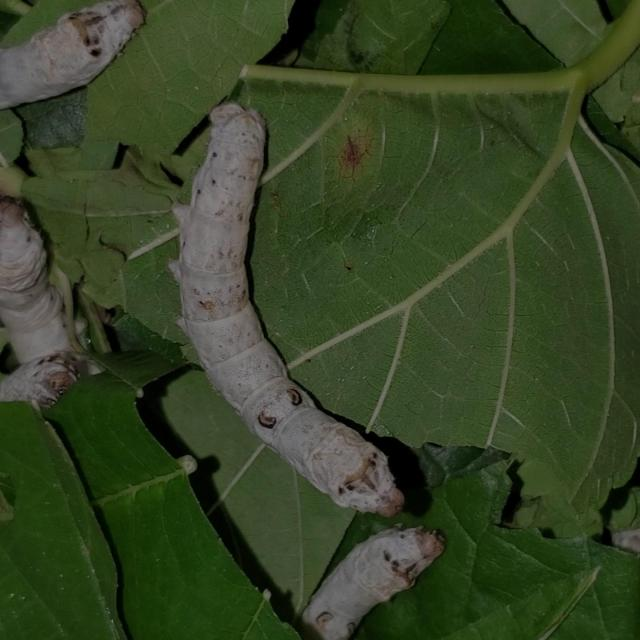Healthy: (146, 83, 434, 525)
